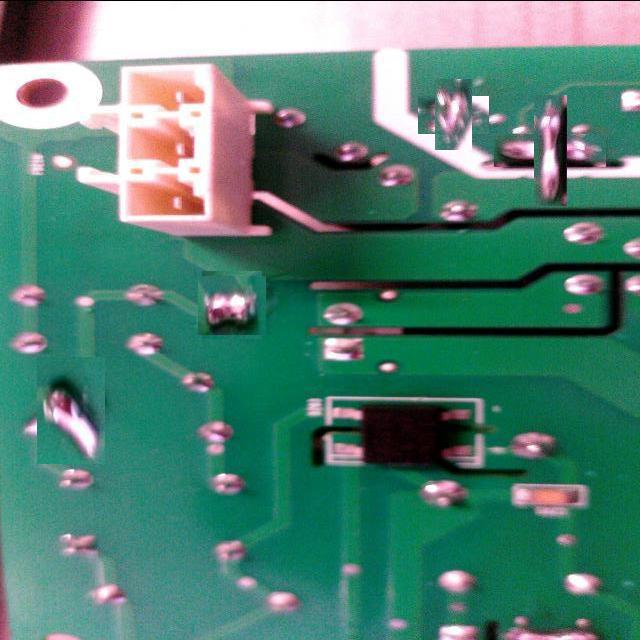Short_circuit: (27, 366, 115, 454), (514, 114, 587, 187), (200, 273, 264, 337), (426, 88, 481, 142)
